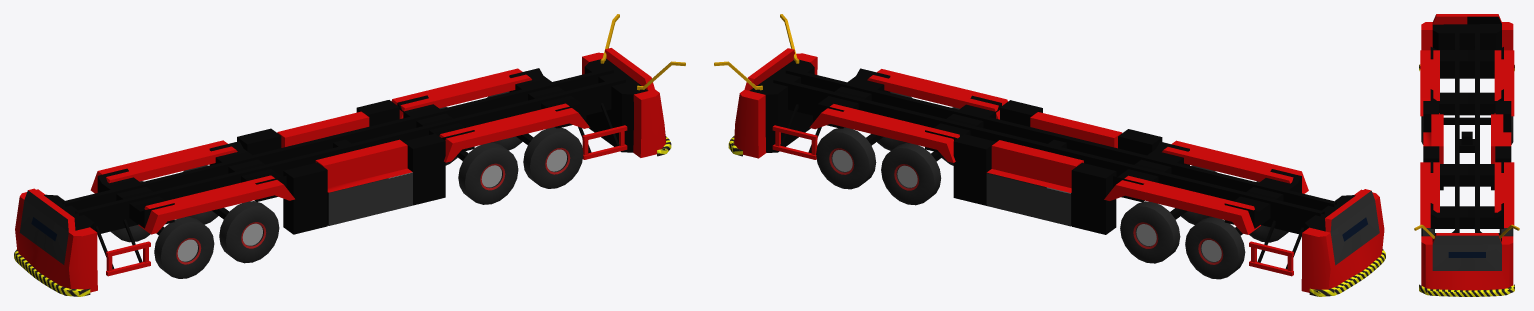
File: SM_AIV_Empty_002.fbx
The picture shows the model from 3 angles, left to right: view 1: azimuth 30°, elevation 25°; view 2: azimuth 150°, elevation 25°; view 3: azimuth 270°, elevation 25°; orthographic projection. The views are drawn at different scales.
Parts seen in each view (by area): view 1: SM_AIV_Empty_002; view 2: SM_AIV_Empty_002; view 3: SM_AIV_Empty_002.
Boxes of the visible parts, left/top/right/bottom form: SM_AIV_Empty_002: left=14, top=14, right=685, bottom=296; SM_AIV_Empty_002: left=714, top=14, right=1385, bottom=296; SM_AIV_Empty_002: left=1414, top=14, right=1519, bottom=296.
Size of the model in its own units: 15.48 by 2.37 by 2.95.
Materials: 1 (1 with a texture image).
